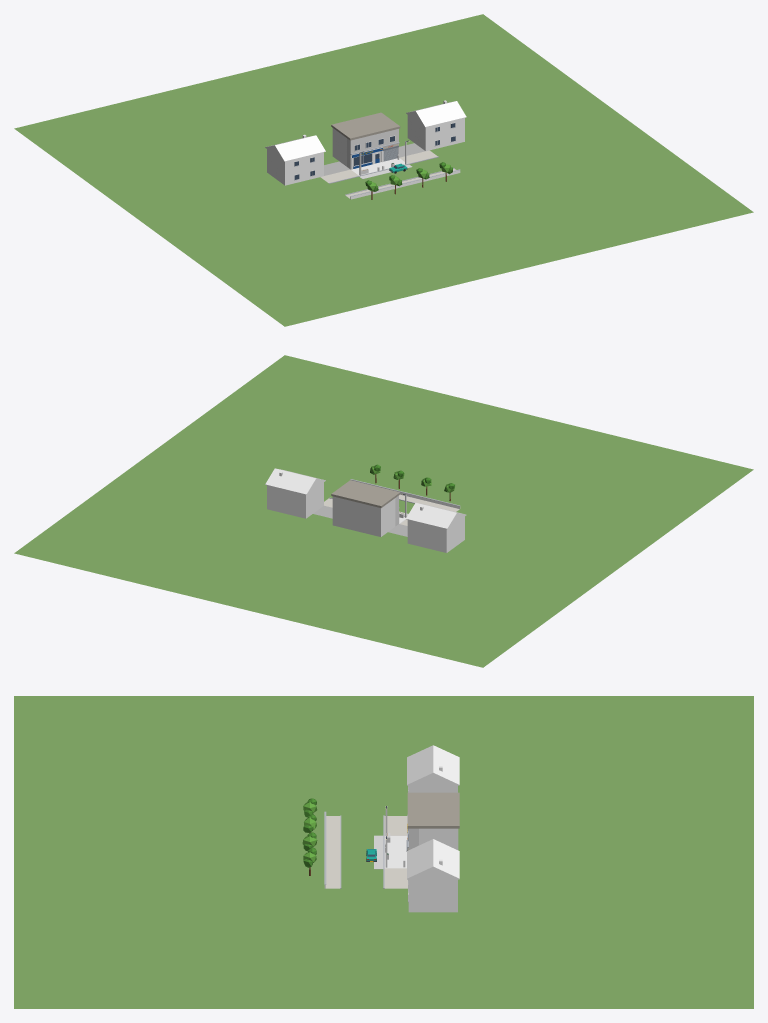
File: job4.glb
3 views of the same model, one above another, from view 1: azimuth 30°, elevation 25°; view 2: azimuth 150°, elevation 25°; view 3: azimuth 270°, elevation 25° (orthographic). The views are drawn at different scales.
Parts seen in each view (by area): view 1: j4_bg, j4_col_1; view 2: j4_bg, j4_col_1; view 3: j4_bg, j4_w_pavement.
Boxes of the visible parts, bbox=[...] form: j4_bg: bbox=[14, 14, 753, 326]; j4_col_1: bbox=[347, 129, 398, 169]; j4_bg: bbox=[14, 355, 753, 667]; j4_col_1: bbox=[332, 495, 398, 536]; j4_bg: bbox=[14, 696, 753, 1008]; j4_w_pavement: bbox=[384, 836, 407, 868].
Size of the model in its own units: 120 by 8.44 by 120.
